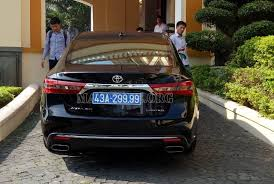plate: (92, 90, 142, 106)
